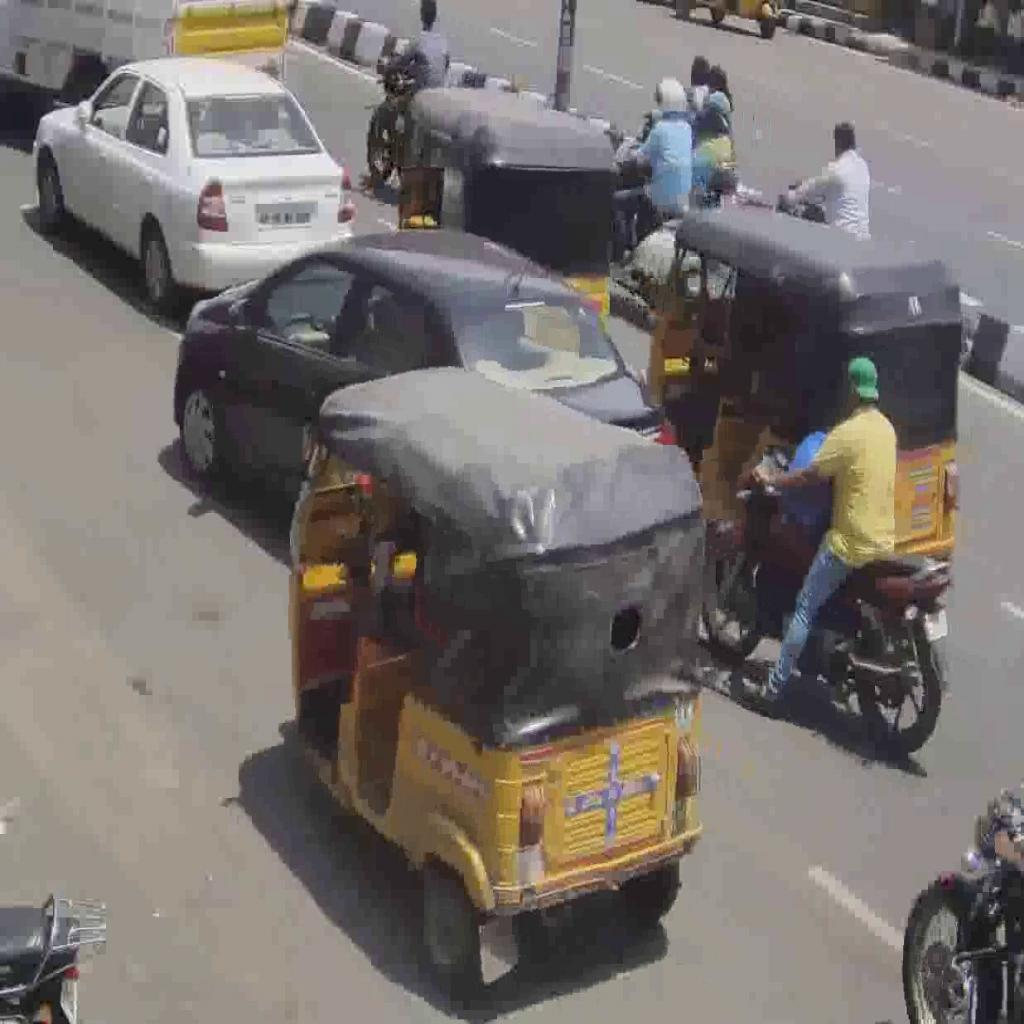helmet: (701, 443, 953, 754)
